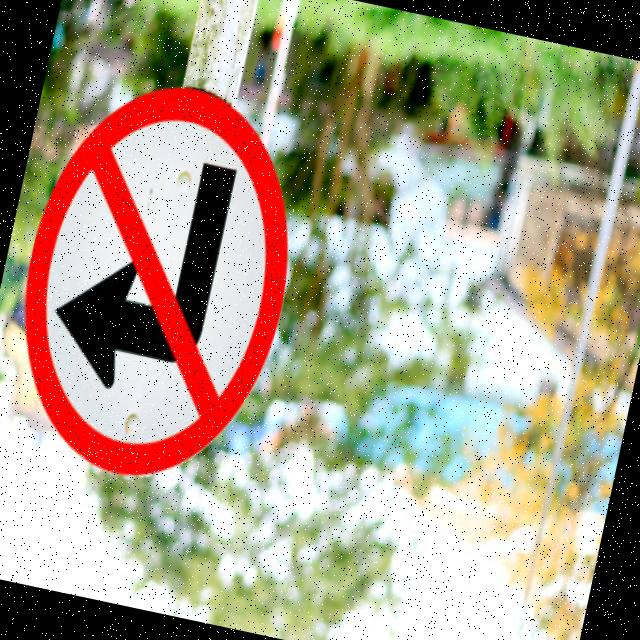do_not_turn_right: (0, 57, 327, 516)
